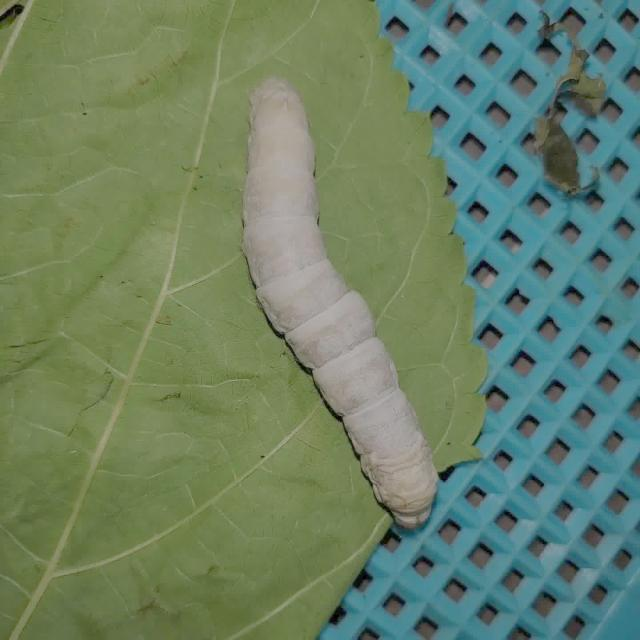Grasserie: (202, 61, 511, 551)
